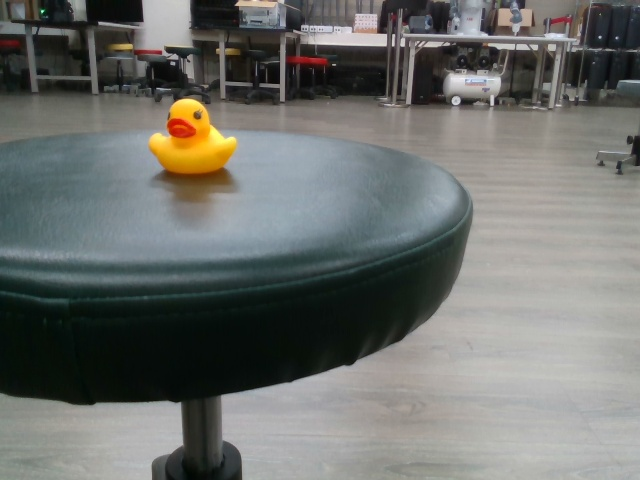duck: (142, 93, 242, 182)
